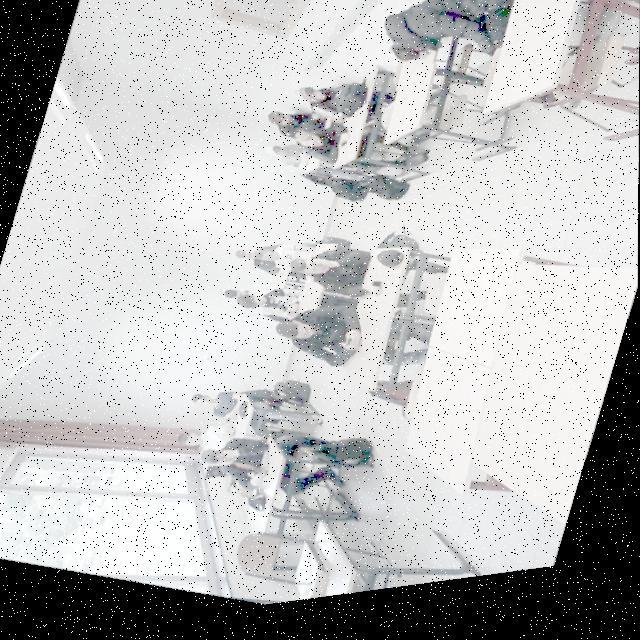daydreaming: (385, 0, 511, 57)
phone_use: (267, 294, 359, 364), (202, 437, 279, 508), (224, 279, 311, 338), (285, 115, 346, 165), (192, 390, 248, 442), (268, 111, 333, 153), (263, 138, 320, 178), (300, 80, 365, 115), (252, 243, 317, 277)
